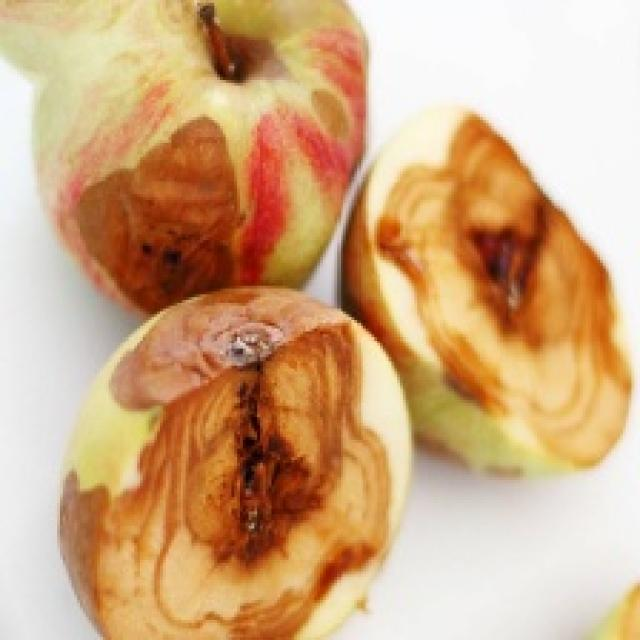rotten_apple: (60, 292, 412, 640), (40, 0, 363, 286), (404, 114, 626, 468)
